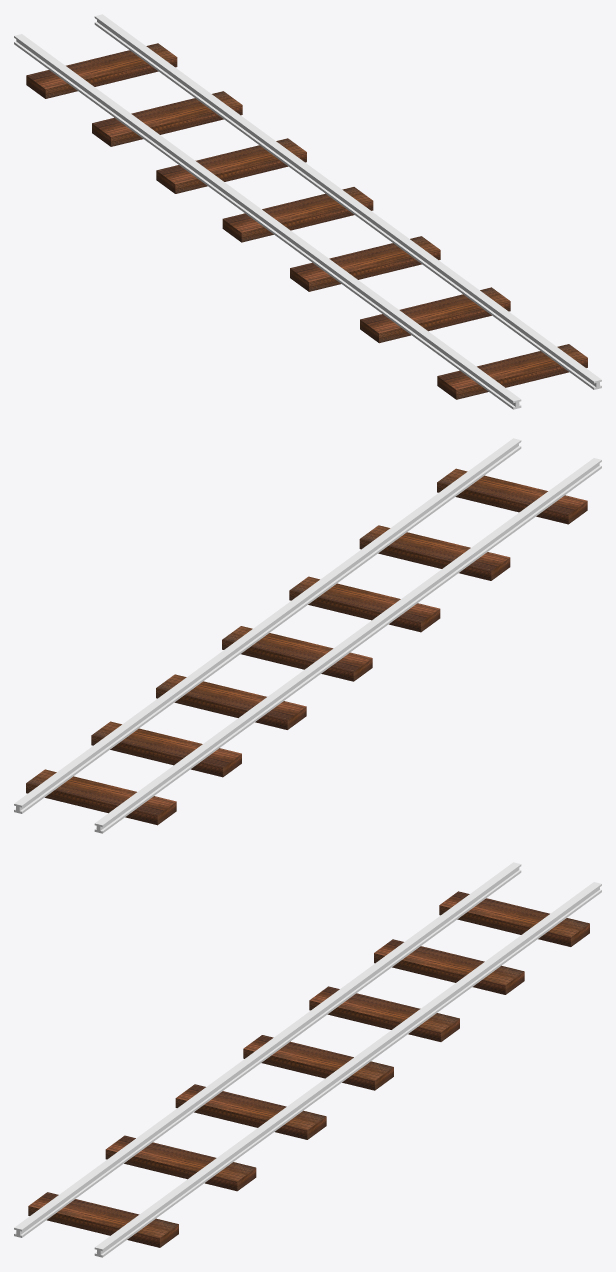
Rendered from track.glb.
The picture shows the model from 3 angles, top to bottom: view 1: azimuth 30°, elevation 25°; view 2: azimuth 150°, elevation 25°; view 3: azimuth 330°, elevation 25°; orthographic projection.
Parts seen in each view (by area): view 1: Object_9, Object_3, Object_6, Object_8, Object_5, Object_7, Object_4, Object_2; view 2: Object_9, Object_7, Object_2, Object_8, Object_3, Object_6, Object_5, Object_4; view 3: Object_9, Object_7, Object_2, Object_8, Object_4, Object_5, Object_6, Object_3.
Part boxes in pixels (x1=…): Object_9: x1=14, y1=14, x2=601, y2=409; Object_3: x1=26, y1=43, x2=177, y2=98; Object_6: x1=222, y1=187, x2=373, y2=242; Object_8: x1=437, y1=344, x2=587, y2=399; Object_5: x1=156, y1=138, x2=306, y2=193; Object_7: x1=290, y1=236, x2=440, y2=291; Object_4: x1=92, y1=91, x2=242, y2=146; Object_2: x1=360, y1=287, x2=510, y2=343; Object_9: x1=14, y1=438, x2=601, y2=833; Object_7: x1=289, y1=576, x2=440, y2=632; Object_2: x1=359, y1=525, x2=510, y2=580; Object_8: x1=437, y1=468, x2=587, y2=524; Object_3: x1=26, y1=769, x2=176, y2=825; Object_6: x1=222, y1=626, x2=372, y2=681; Object_5: x1=156, y1=674, x2=306, y2=729; Object_4: x1=91, y1=721, x2=241, y2=777; Object_9: x1=14, y1=862, x2=601, y2=1257; Object_7: x1=175, y1=1084, x2=326, y2=1139; Object_2: x1=105, y1=1135, x2=256, y2=1191; Object_8: x1=28, y1=1192, x2=178, y2=1247; Object_4: x1=374, y1=939, x2=524, y2=994; Object_5: x1=309, y1=986, x2=459, y2=1041; Object_6: x1=243, y1=1035, x2=393, y2=1090; Object_3: x1=439, y1=891, x2=589, y2=946.
Bounding box in the file's own units: 3.07 × 0.4318 × 20.14.
8 materials, 7 textured.
